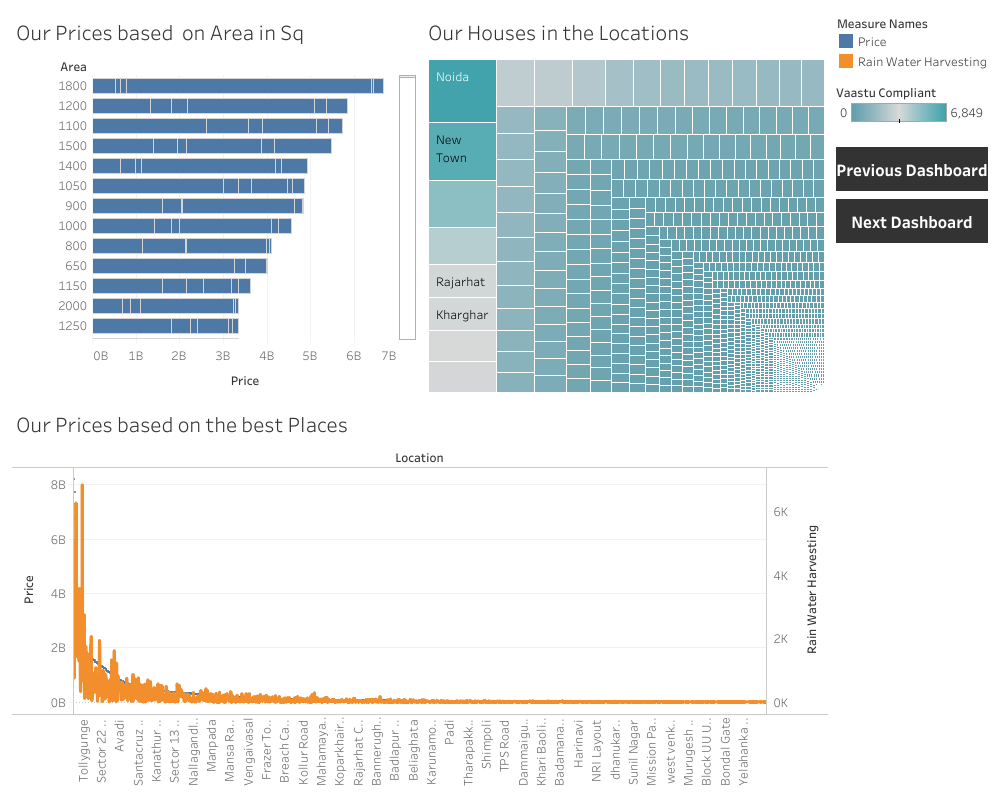

This screenshot's page, from the dashboard's own definition file:
{"tool":"tableau","page":{"name":"Dashboard 2","canvas":[1000,800],"ordinal":1},"visuals":[{"type":"worksheet","title":"Sheet 2","mark":"Automatic","rows":["Area"],"cols":["Price"],"box":[8,8,412,392]},{"type":"worksheet","title":"Sheet 4","mark":"Automatic","box":[420,8,412,392]},{"type":"legend","title":"Sheet 3","param":"[federated.051ejo61k5k1d71gc72n81ba1xm3].[:Measure Names]","box":[832,8,160,66]},{"type":"legend","title":"Sheet 4","param":"[federated.051ejo61k5k1d71gc72n81ba1xm3].[sum:VaastuCompliant:qk]","box":[832,74,160,65]},{"type":"dashboard-object","box":[832,139,160,52]},{"type":"dashboard-object","box":[832,191,160,52]},{"type":"worksheet","title":"Sheet 3","mark":"Circle","rows":["Price","RainWaterHarvesting"],"cols":["Location"],"box":[8,400,824,392]}]}

Visuals, with their boxes in screenshot pixels (x1, y1, x2, y2), scaled from the page's 1000x800 canvas onto the 999x799 screenshot:
"Sheet 2" worksheet: <bbox>8, 8, 420, 400</bbox>
"Sheet 4" worksheet: <bbox>420, 8, 831, 400</bbox>
"Sheet 3" legend: <bbox>831, 8, 991, 74</bbox>
"Sheet 4" legend: <bbox>831, 74, 991, 139</bbox>
dashboard-object: <bbox>831, 139, 991, 191</bbox>
dashboard-object: <bbox>831, 191, 991, 243</bbox>
"Sheet 3" worksheet (Circle marks): <bbox>8, 400, 831, 791</bbox>
